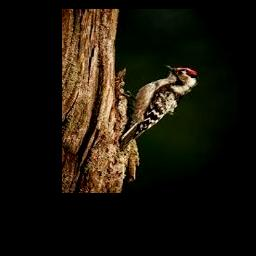Woodpecker: (120, 64, 199, 150)
